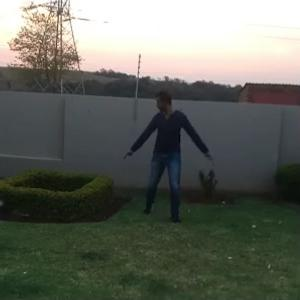land: (115, 84, 234, 252)
